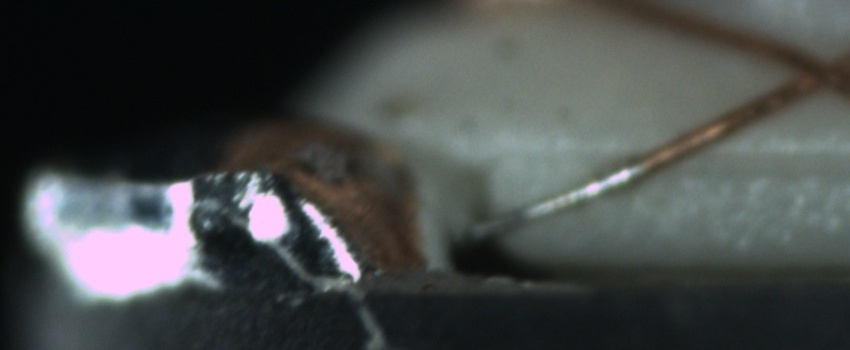CL: (772, 38, 846, 105)
DL: (512, 124, 843, 189)
TS: (457, 161, 640, 247)
